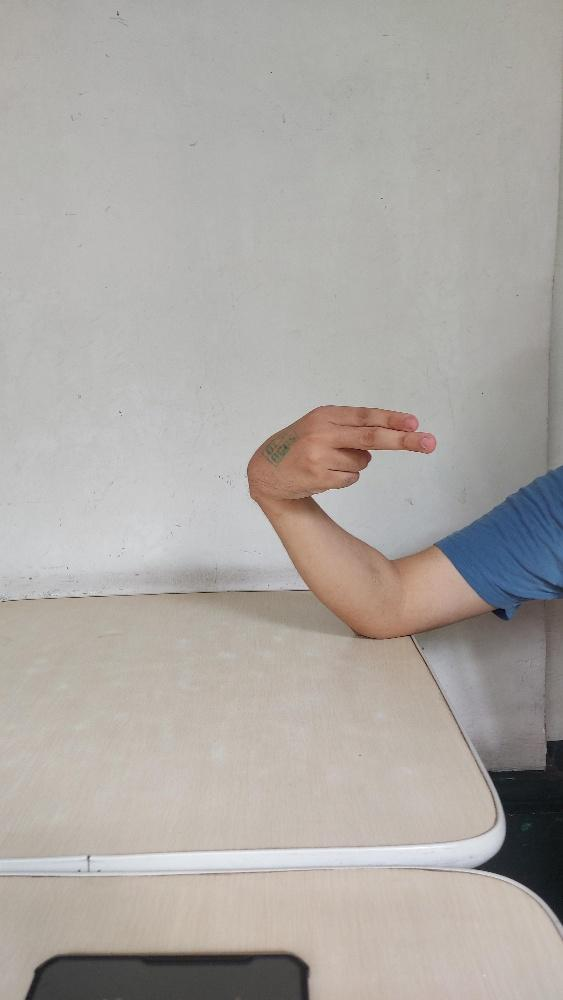h: (246, 404, 435, 499)
